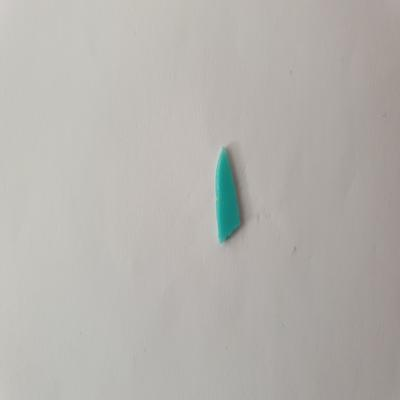plastic: (209, 141, 252, 250)
